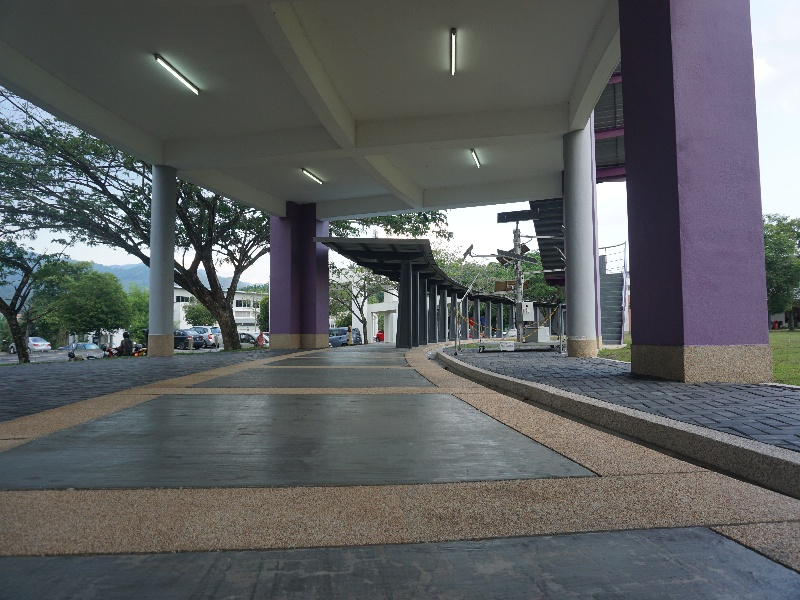Block D Pillar 4: (1, 1, 792, 488)
pillar: (614, 4, 782, 385), (555, 104, 616, 364), (261, 193, 337, 353), (137, 154, 182, 358), (393, 257, 419, 352)
